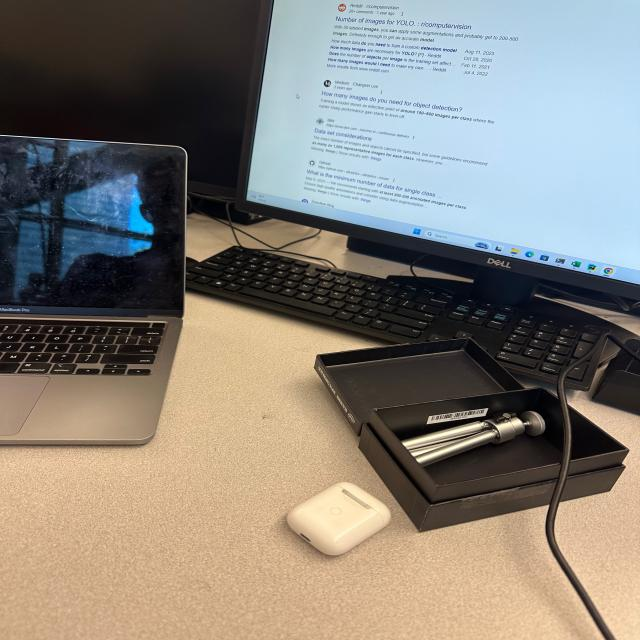monitor: (185, 239, 627, 397), (0, 317, 175, 385)
robotic-arm: (231, 0, 640, 299), (0, 0, 258, 144)
